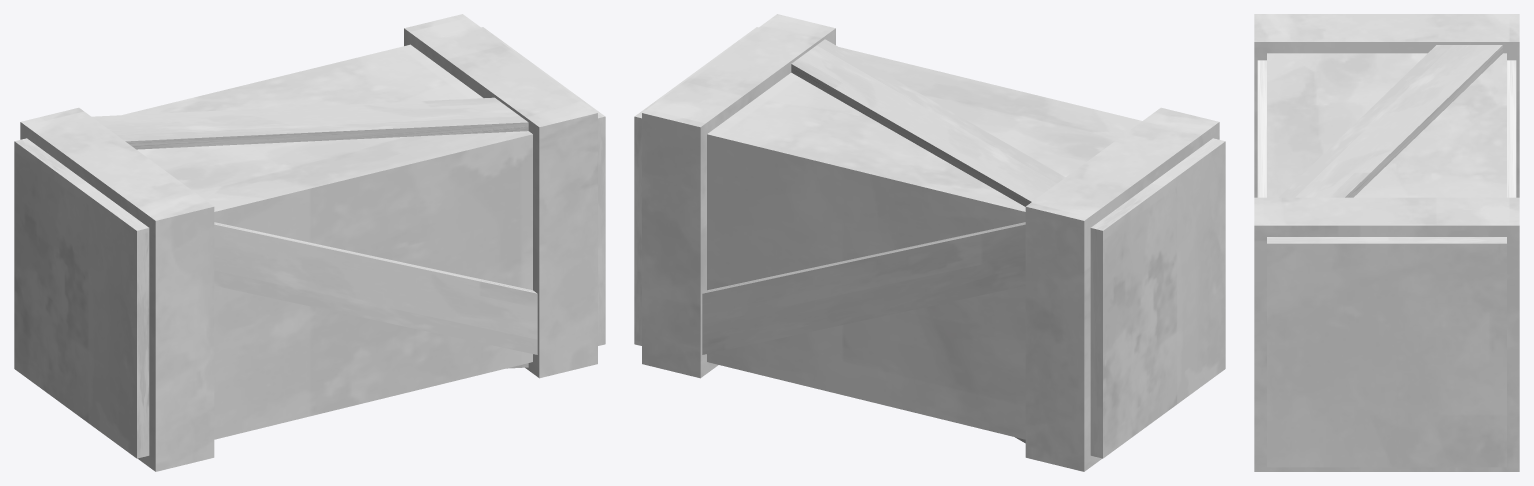
The model's file is Crate.fbx.
The picture shows the model from 3 angles, left to right: view 1: azimuth 30°, elevation 25°; view 2: azimuth 150°, elevation 25°; view 3: azimuth 270°, elevation 25°; orthographic projection.
Visible parts, largest first — view 1: crate; view 2: crate; view 3: crate.
Boxes of the visible parts, x1,y1,x2,y2 form: crate: [14, 14, 605, 471]; crate: [634, 14, 1225, 471]; crate: [1254, 14, 1519, 471].
Size of the model in its own units: 1.92 by 0.9828 by 0.96.
